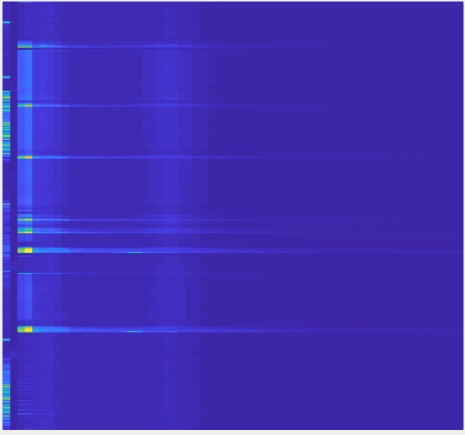leak: (12, 49, 68, 101), (12, 162, 67, 214), (12, 107, 69, 154), (14, 271, 61, 323)
